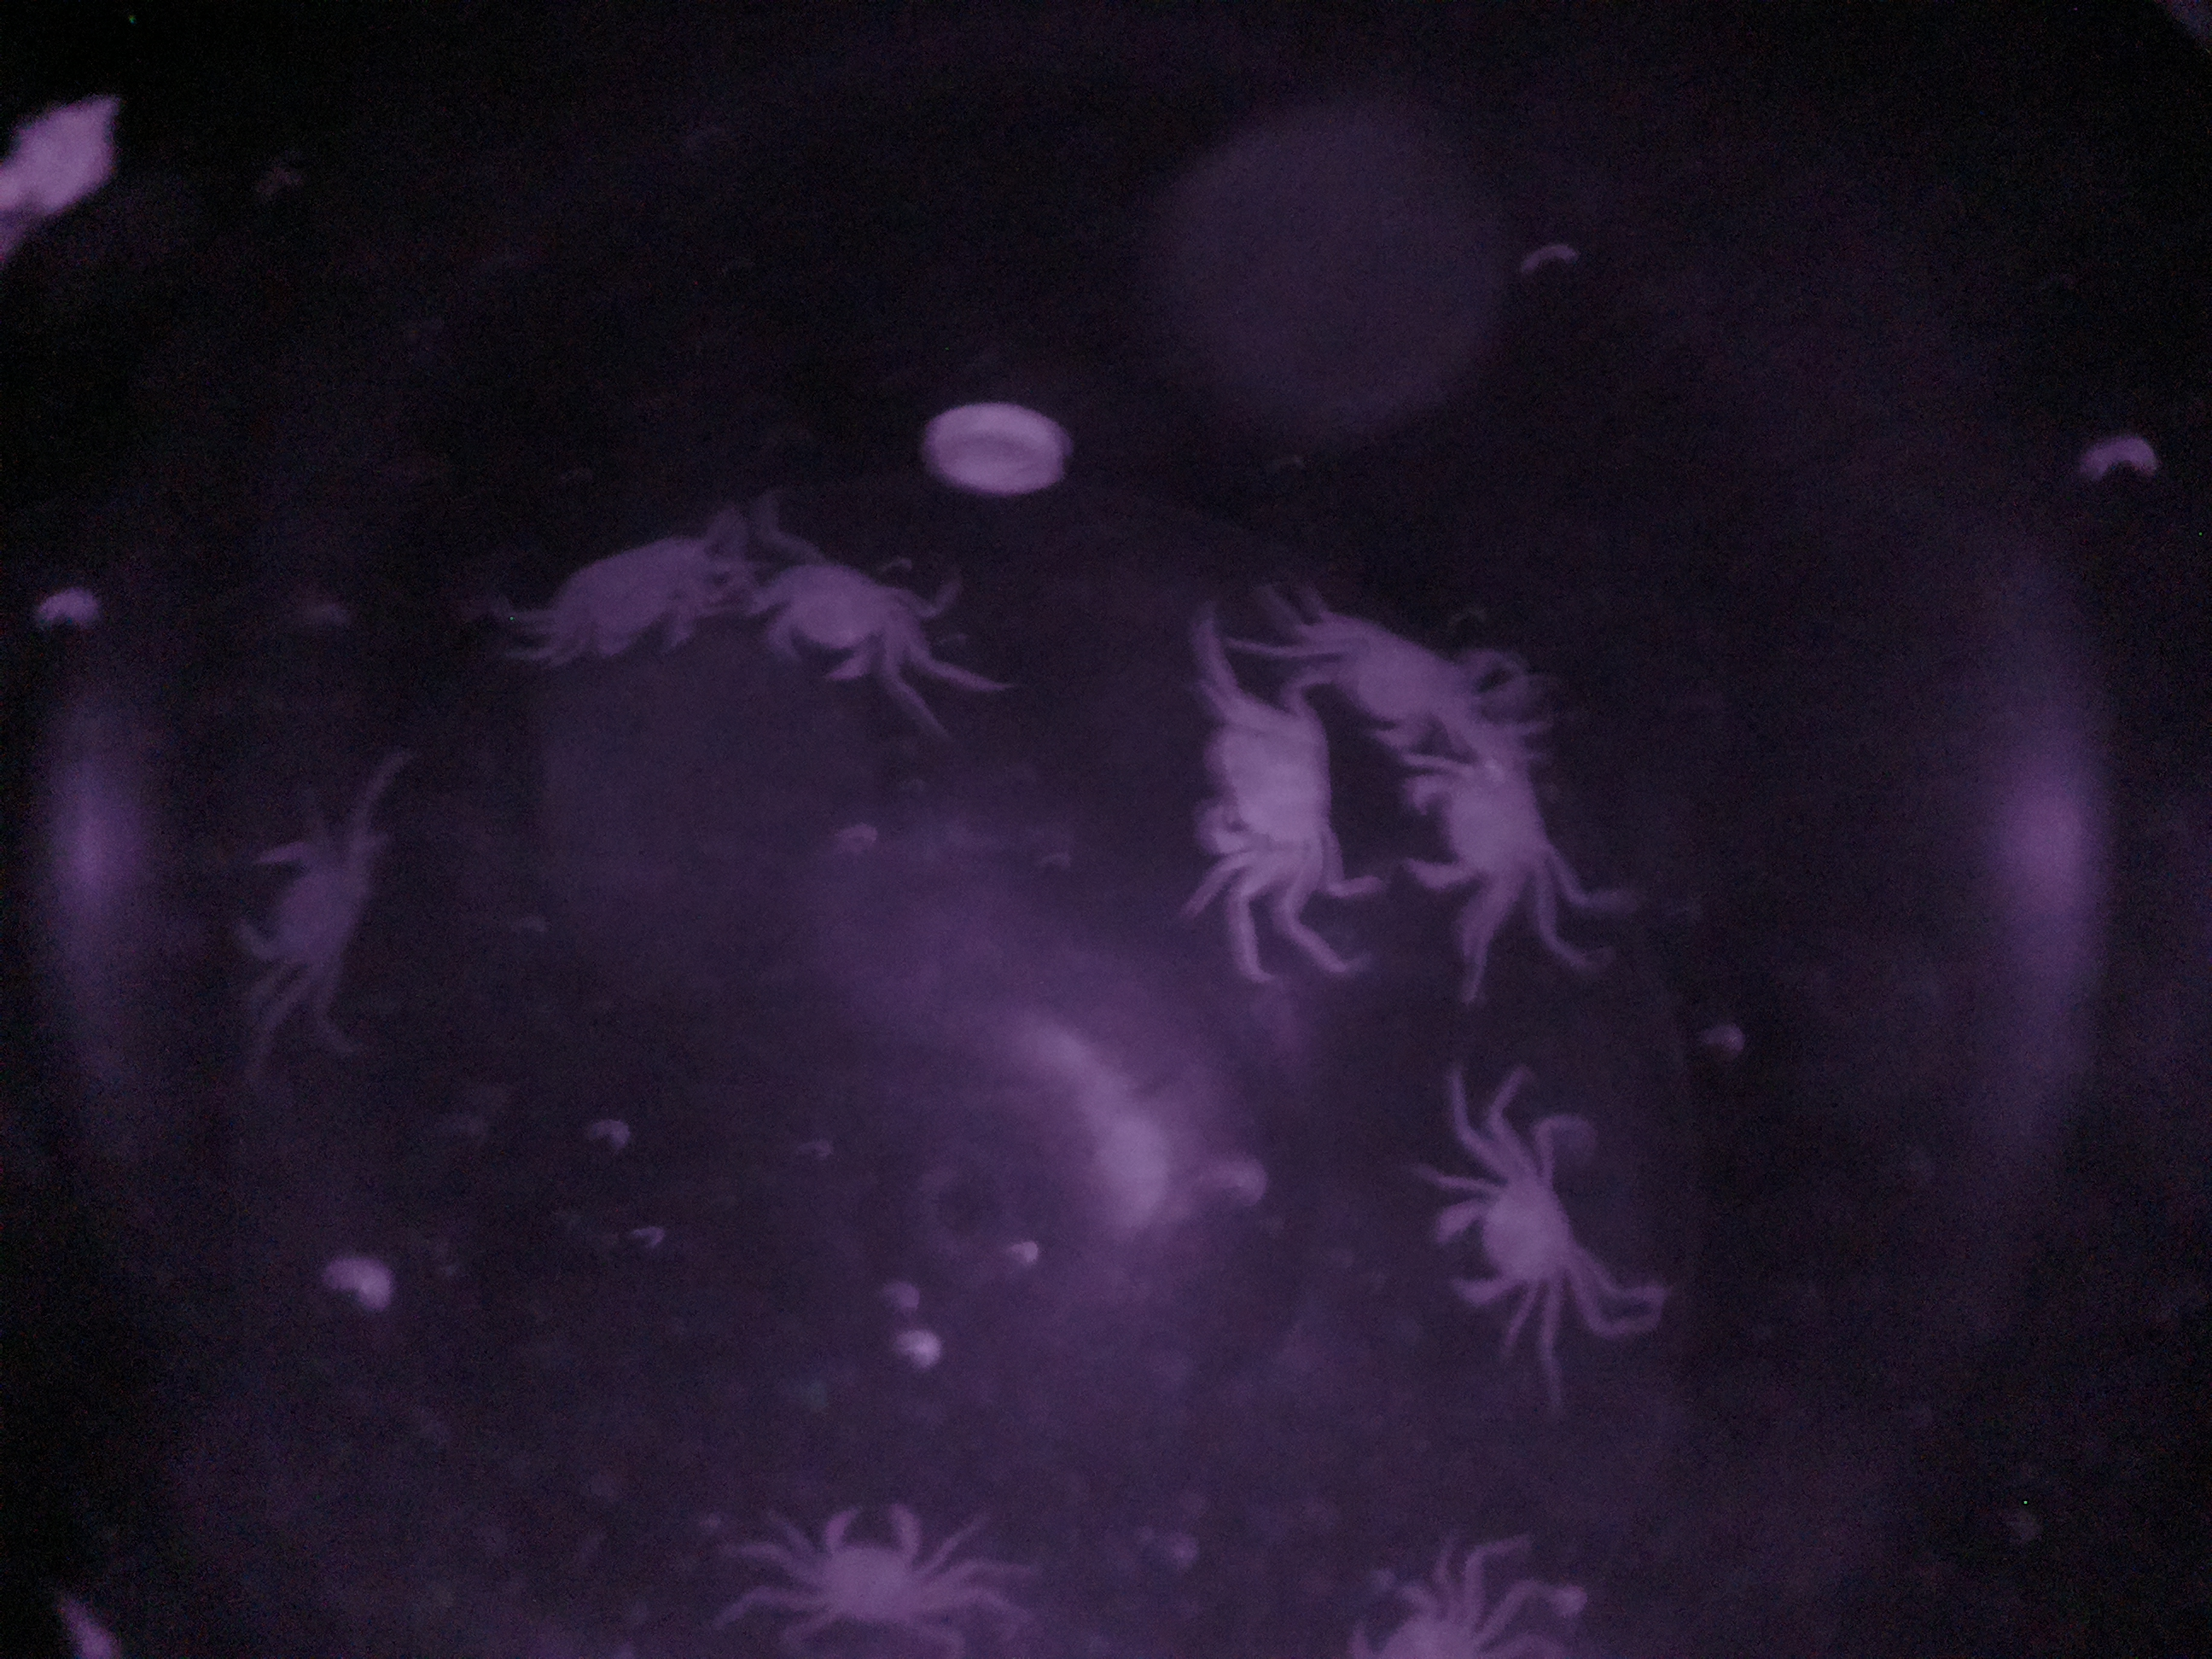Crab: (1413, 1136, 1615, 1342), (1388, 713, 1594, 911), (770, 1471, 963, 1652)
